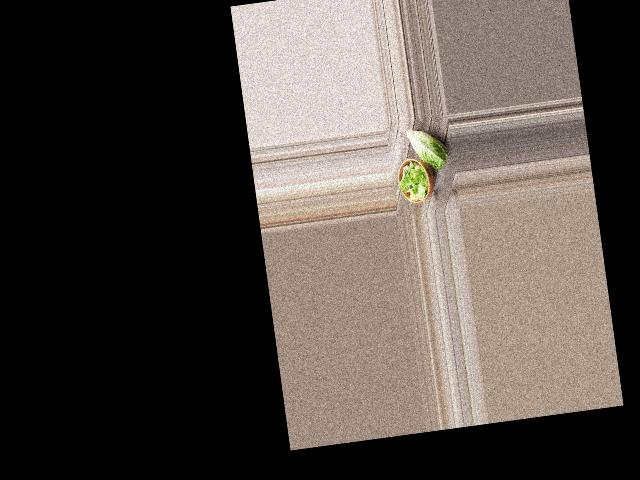lettuce: (405, 125, 450, 172)
